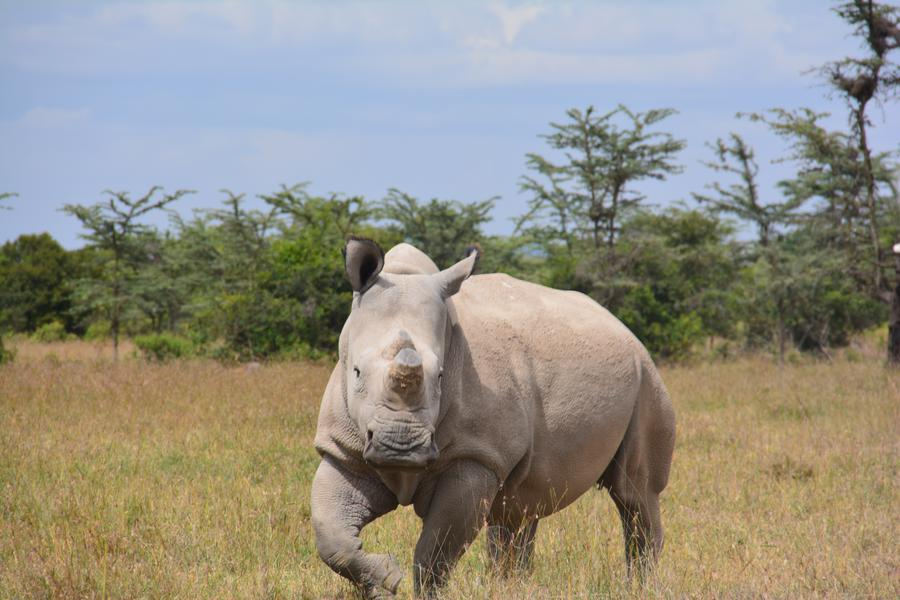rhino: (284, 235, 684, 570)
